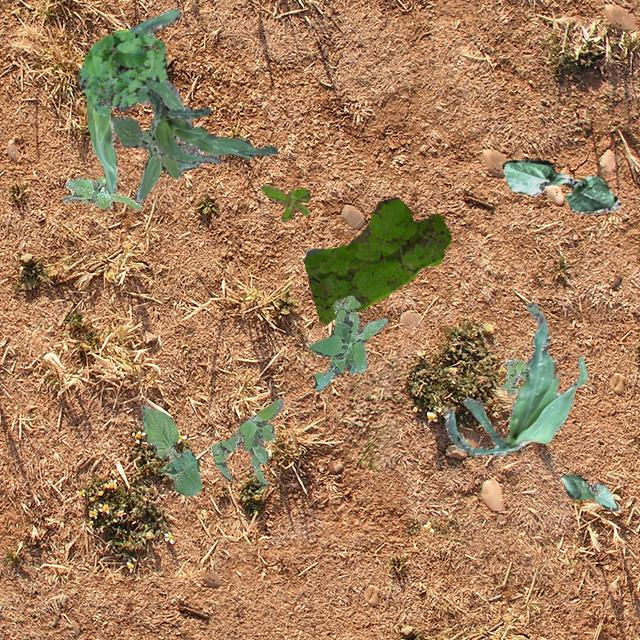crop: (444, 302, 586, 454), (86, 8, 202, 192), (146, 88, 276, 164), (502, 158, 620, 214), (140, 404, 200, 496), (560, 474, 618, 509)
weed: (302, 195, 450, 324), (76, 29, 166, 116), (308, 294, 387, 390), (109, 116, 199, 200), (208, 398, 282, 487), (61, 176, 140, 208), (260, 183, 308, 220), (498, 358, 526, 396), (148, 31, 154, 36)
